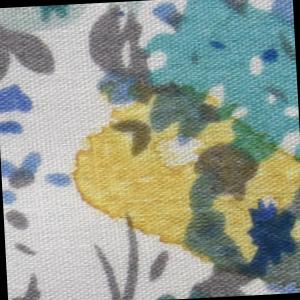Oil Stain: (65, 67, 300, 300)
